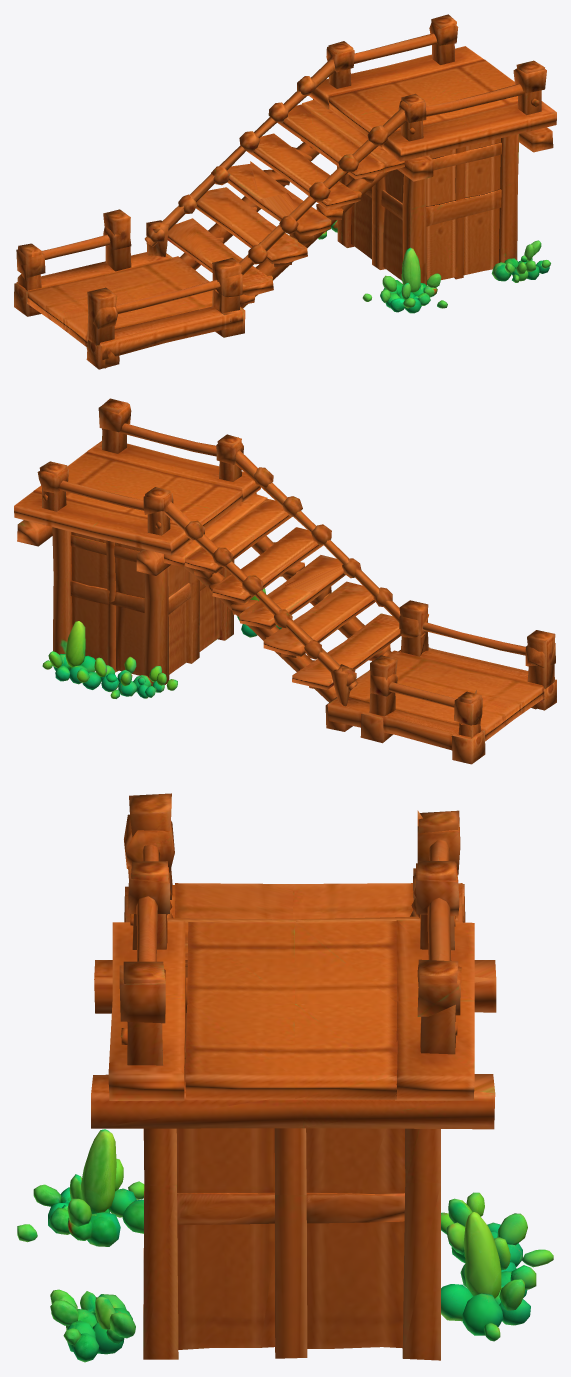
The model's file is r1c6_wooden_stairs.glb.
The picture shows the model from 3 angles, top to bottom: view 1: azimuth 30°, elevation 25°; view 2: azimuth 150°, elevation 25°; view 3: azimuth 270°, elevation 25°; orthographic projection. The views are drawn at different scales.
Bounding box in the file's own units: 1 × 0.4238 × 0.5117.
Materials: 1 (1 with a texture image).
